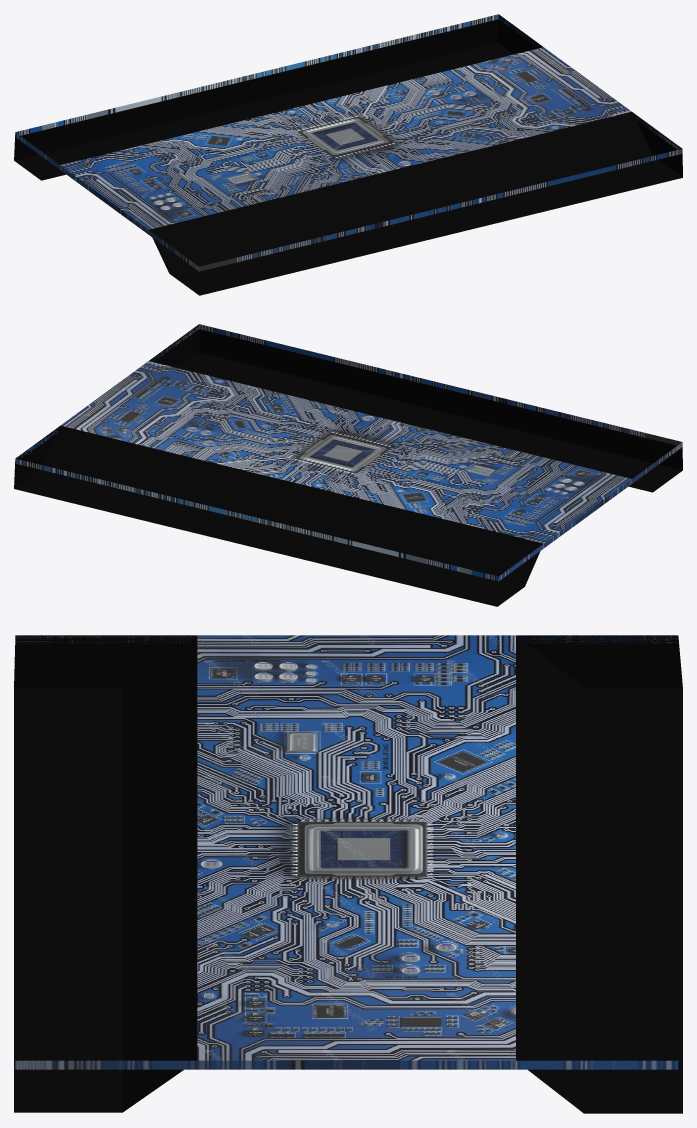
The model's file is WaterFloorBeta1.fbx.
The picture shows the model from 3 angles, top to bottom: view 1: azimuth 30°, elevation 25°; view 2: azimuth 150°, elevation 25°; view 3: azimuth 270°, elevation 25°; orthographic projection. The views are drawn at different scales.
Parts seen in each view (by area): view 1: polySurface3; view 2: polySurface3; view 3: polySurface3.
Part boxes in pixels (box(x1,y1,x2,y2)): polySurface3: box(14, 14, 682, 295); polySurface3: box(14, 324, 682, 606); polySurface3: box(14, 635, 682, 1113).
Size of the model in its own units: 19.16 by 1.11 by 12.73.
